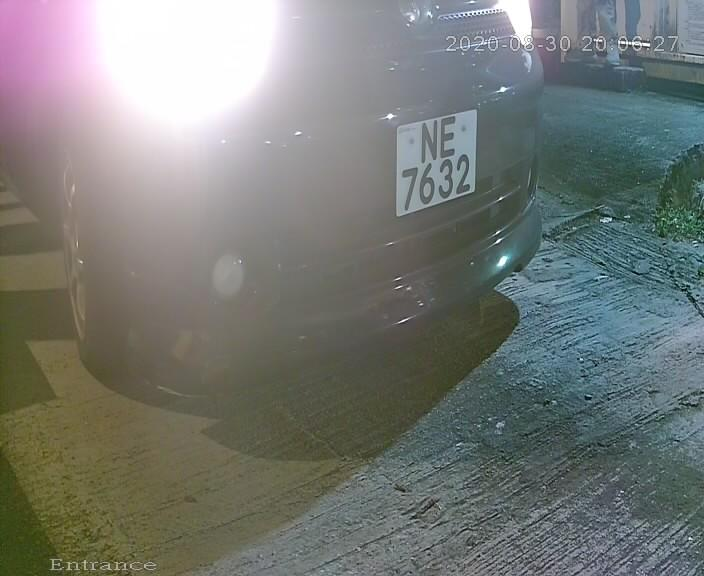License Plate: (384, 93, 478, 229)
